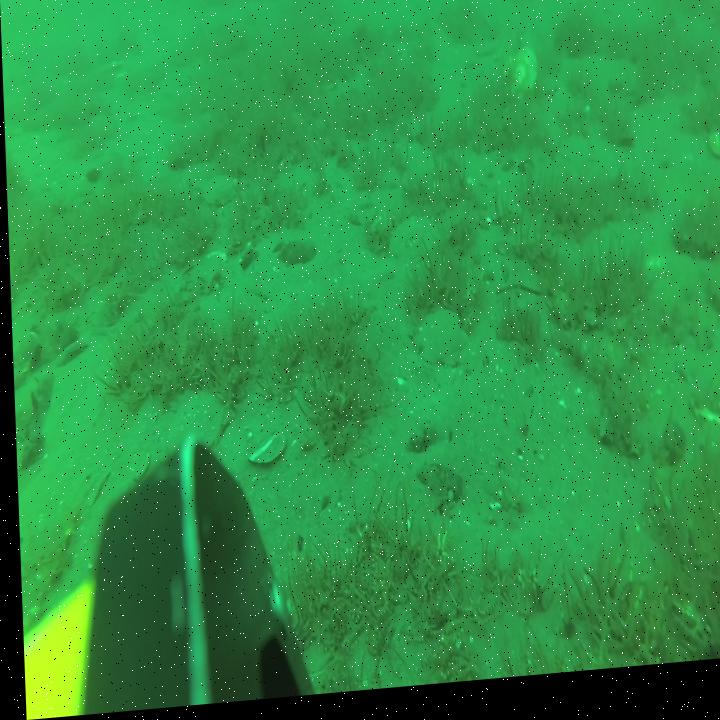scallop: (166, 396, 234, 470), (412, 315, 464, 373), (503, 56, 537, 107), (200, 177, 236, 211), (708, 141, 720, 172)
